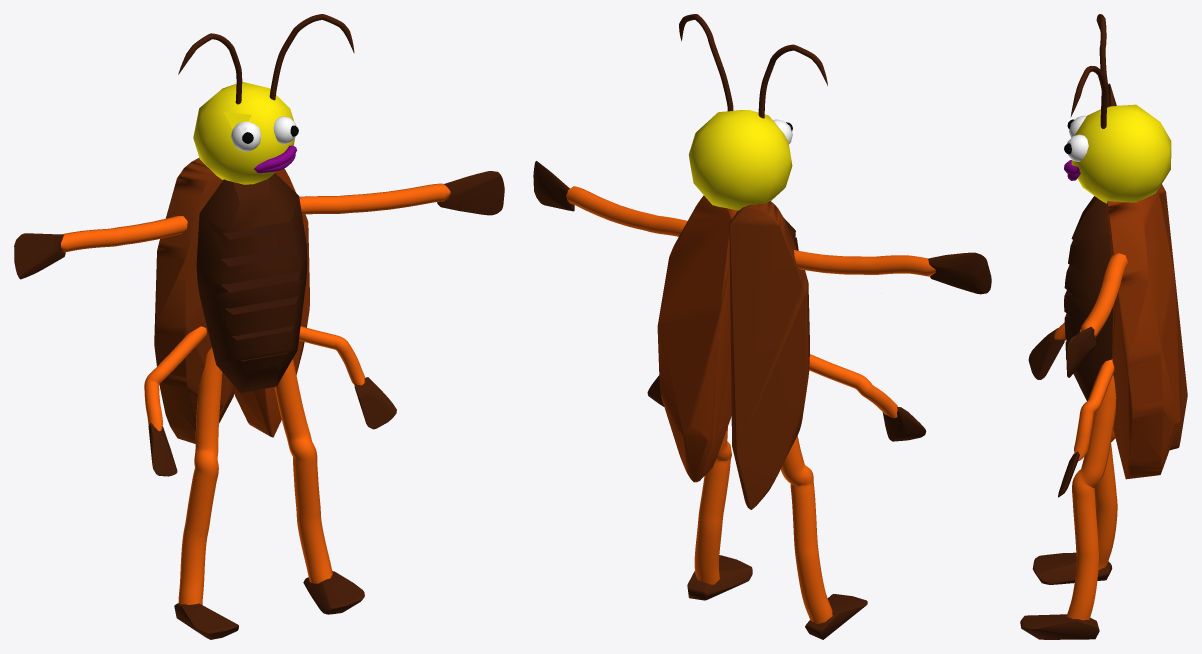
Rendered from Good_Roach.obj.
3 renders of one model, left to right at view 1: azimuth 30°, elevation 25°; view 2: azimuth 150°, elevation 25°; view 3: azimuth 270°, elevation 25°, orthographic. The views are drawn at different scales.
Visible parts, largest first — view 1: Good_Roach; view 2: Good_Roach; view 3: Good_Roach.
Part boxes in pixels (left/top/right/bottom): Good_Roach: left=14, top=14, right=504, bottom=639; Good_Roach: left=533, top=14, right=991, bottom=639; Good_Roach: left=1020, top=14, right=1187, bottom=639.
Bounding box in the file's own units: 1.16 × 1.38 × 0.3613.
